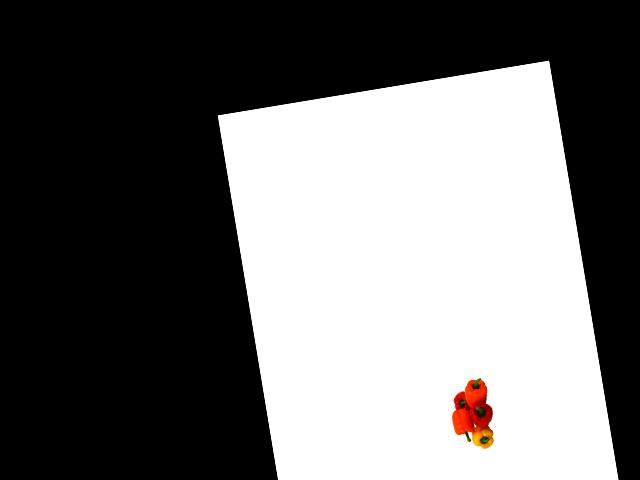bell_pepper: (459, 371, 492, 409)
